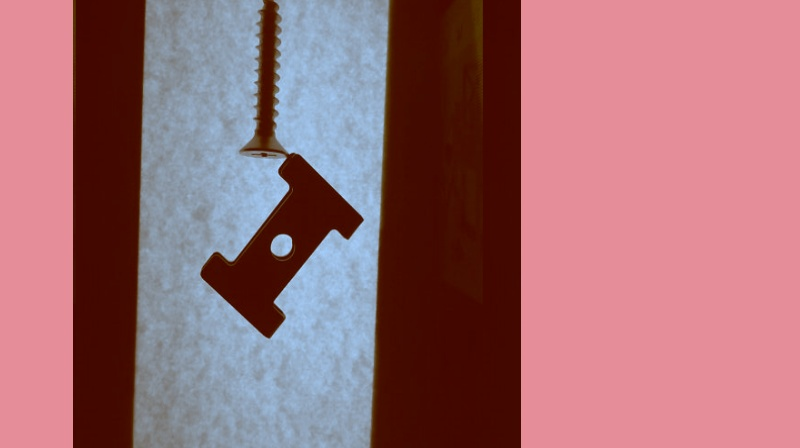O002: (196, 151, 365, 339)
S001: (237, 0, 290, 160)
